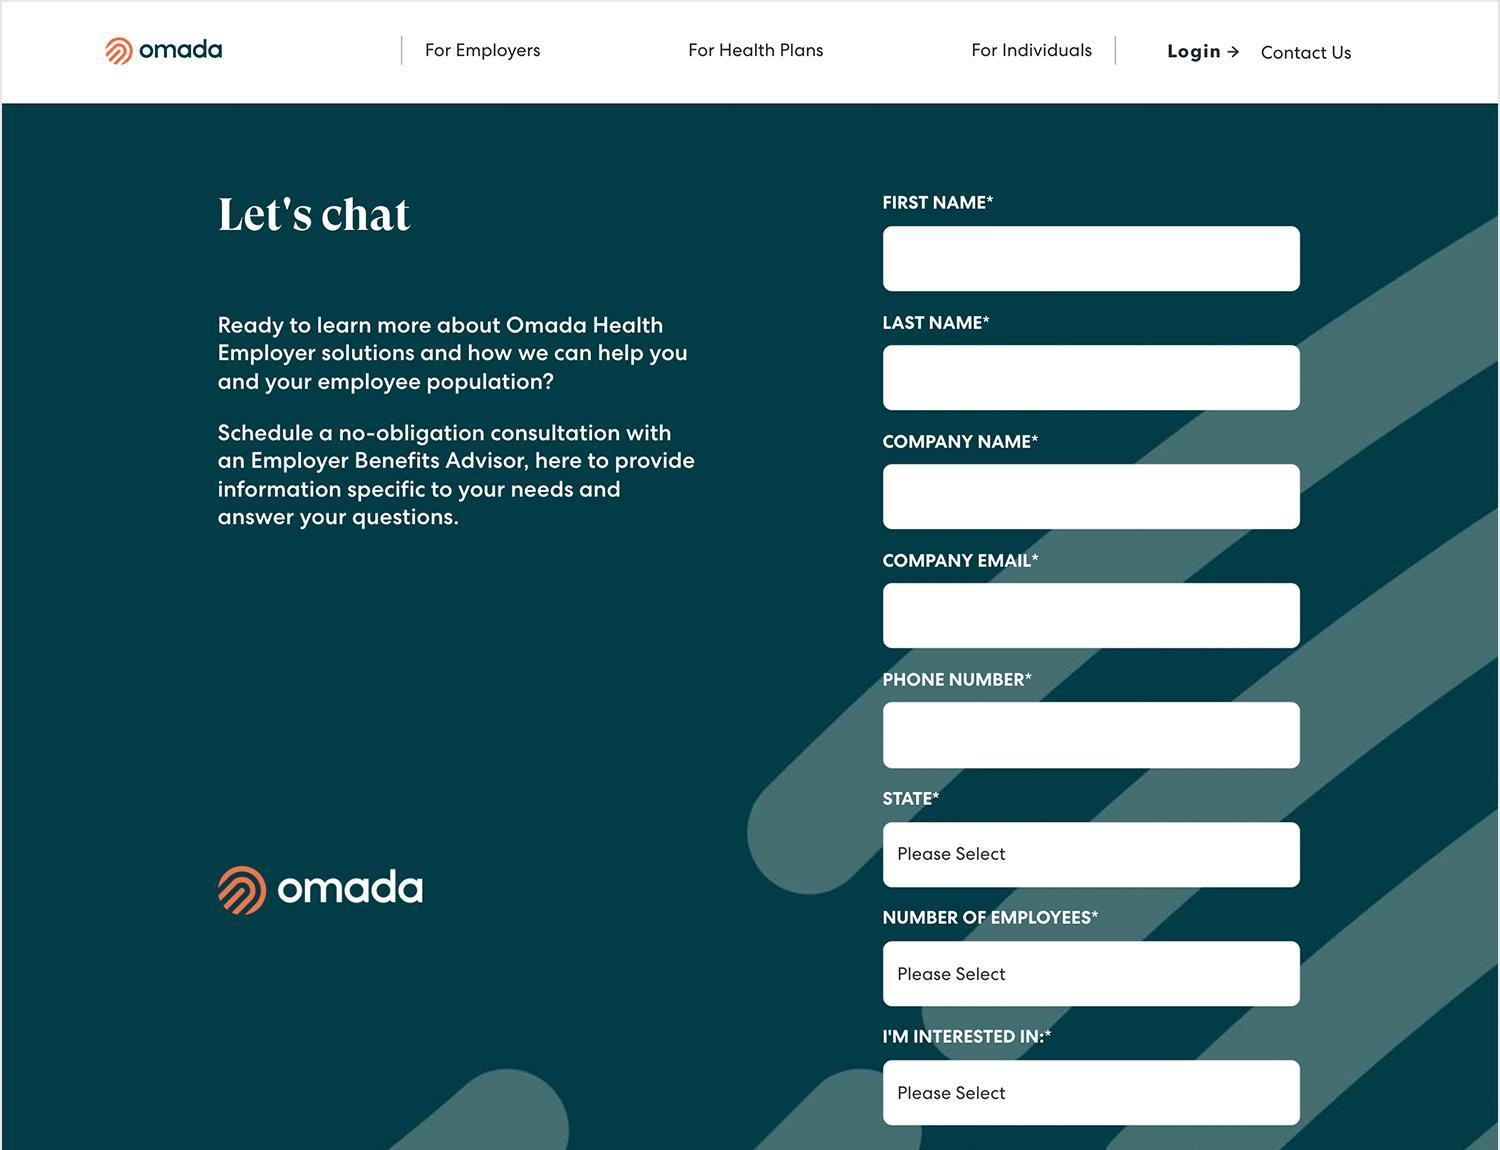input: (883, 463, 1303, 535), (883, 226, 1303, 297), (884, 583, 1301, 654), (884, 704, 1303, 773), (884, 821, 1302, 888), (884, 943, 1303, 1007), (884, 1062, 1302, 1126), (884, 347, 1301, 411)
label: (885, 905, 1103, 934), (880, 1026, 1056, 1055), (879, 548, 1041, 576), (884, 429, 1043, 455), (879, 304, 990, 339), (884, 668, 1037, 693), (883, 188, 995, 215), (879, 786, 944, 809)
